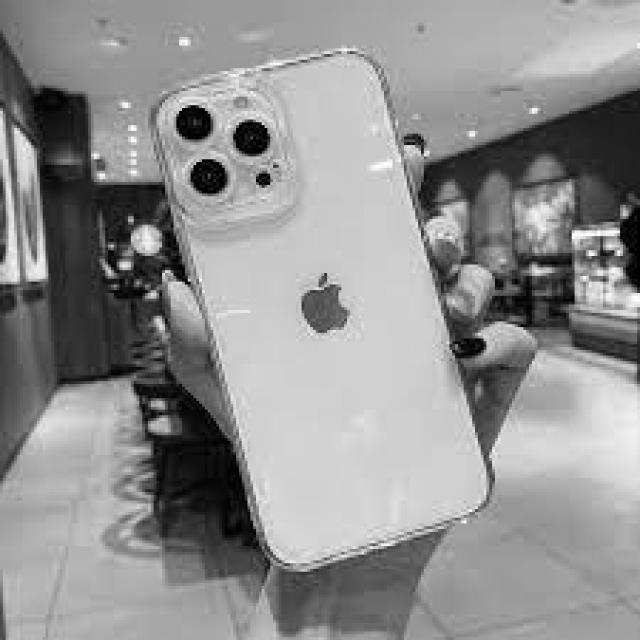No gun_phone: (151, 51, 495, 576)
